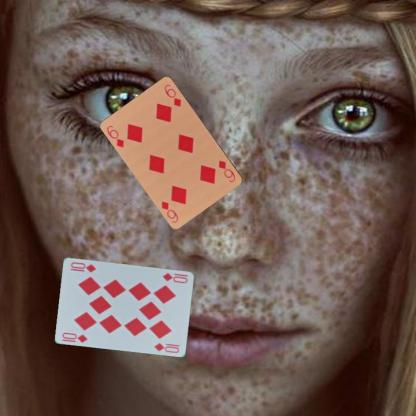10d: (59, 329, 89, 344), (160, 270, 189, 284)
6d: (104, 122, 126, 148), (216, 158, 237, 184)
